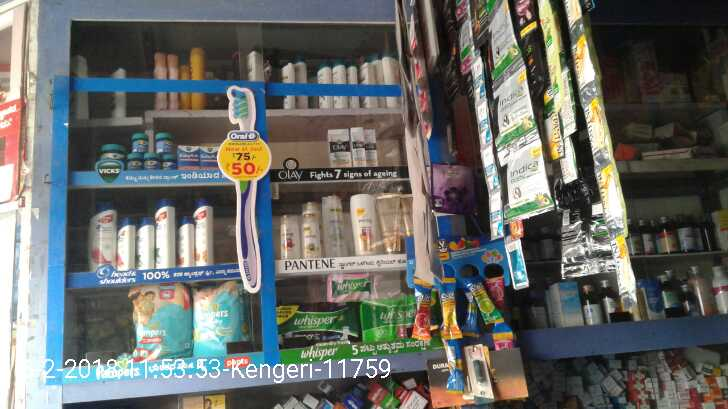beauty: (88, 199, 117, 270), (348, 190, 377, 257), (193, 201, 219, 266), (321, 193, 346, 257), (376, 189, 399, 253), (156, 199, 176, 269), (328, 125, 351, 171), (279, 213, 301, 259), (301, 212, 320, 260), (137, 219, 155, 269), (117, 218, 134, 270), (177, 215, 194, 266), (349, 126, 365, 167), (362, 126, 378, 166), (398, 194, 403, 201)
pharmacy: (126, 285, 193, 359), (192, 283, 252, 356), (279, 300, 358, 347), (358, 299, 419, 344), (325, 272, 376, 300), (177, 142, 200, 171), (128, 130, 150, 157), (154, 130, 174, 154), (143, 152, 161, 171), (159, 154, 176, 171), (125, 156, 144, 171)
